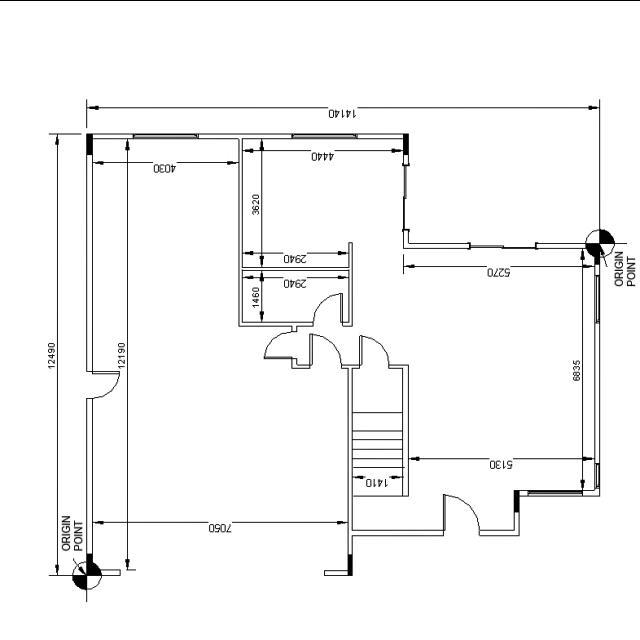Column: (86, 132, 92, 154), (403, 132, 409, 154), (594, 242, 600, 264), (514, 489, 520, 511), (86, 552, 92, 574), (348, 553, 352, 575)
Door: (444, 493, 479, 535), (310, 332, 342, 368), (313, 292, 343, 326), (359, 334, 389, 368), (86, 369, 120, 398), (264, 330, 298, 358)
Sliding Door: (471, 242, 535, 248), (403, 165, 409, 228)
Staircase: (352, 368, 402, 494)
Window: (132, 132, 198, 138), (292, 132, 358, 138), (528, 490, 584, 496), (594, 274, 600, 322), (594, 462, 600, 488)
